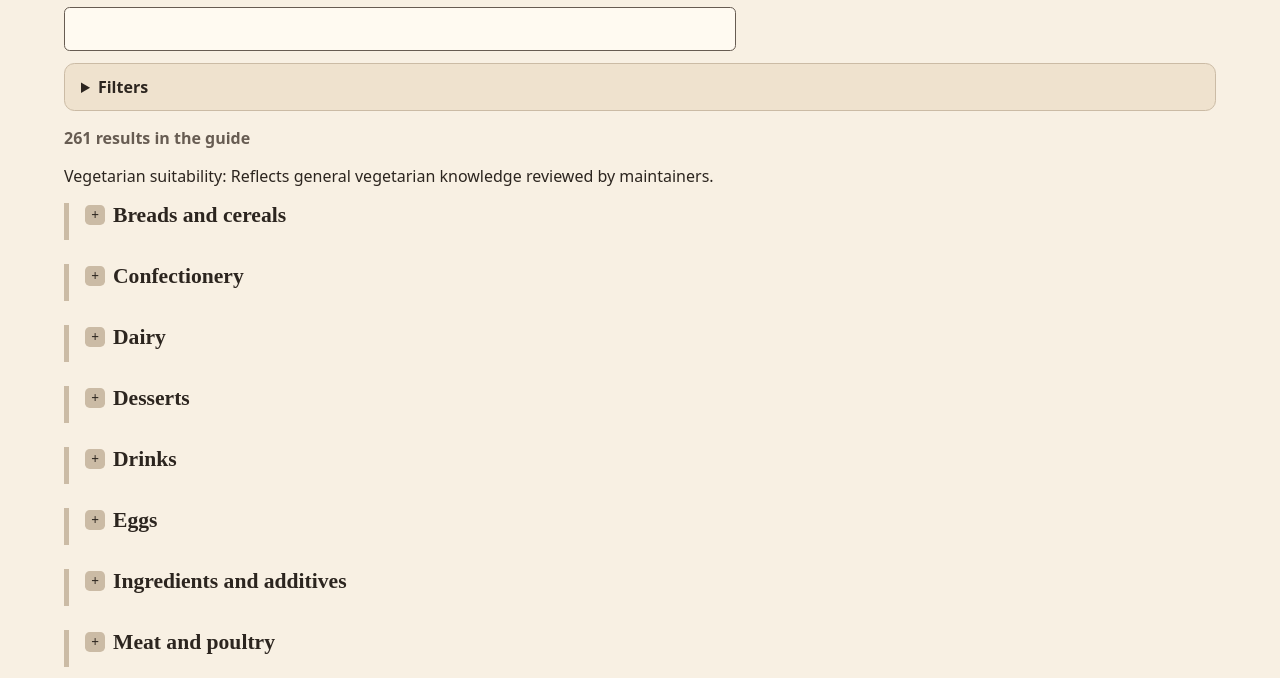
Test case: CataloguePage › defaults to pregnancy and vegetarian scopes and renders their list-specific card guidance
(page scrolled)
Click the button "+ Dairy" at (125, 337), box x1=85 y1=325 x2=166 y2=350
(page scrolled)
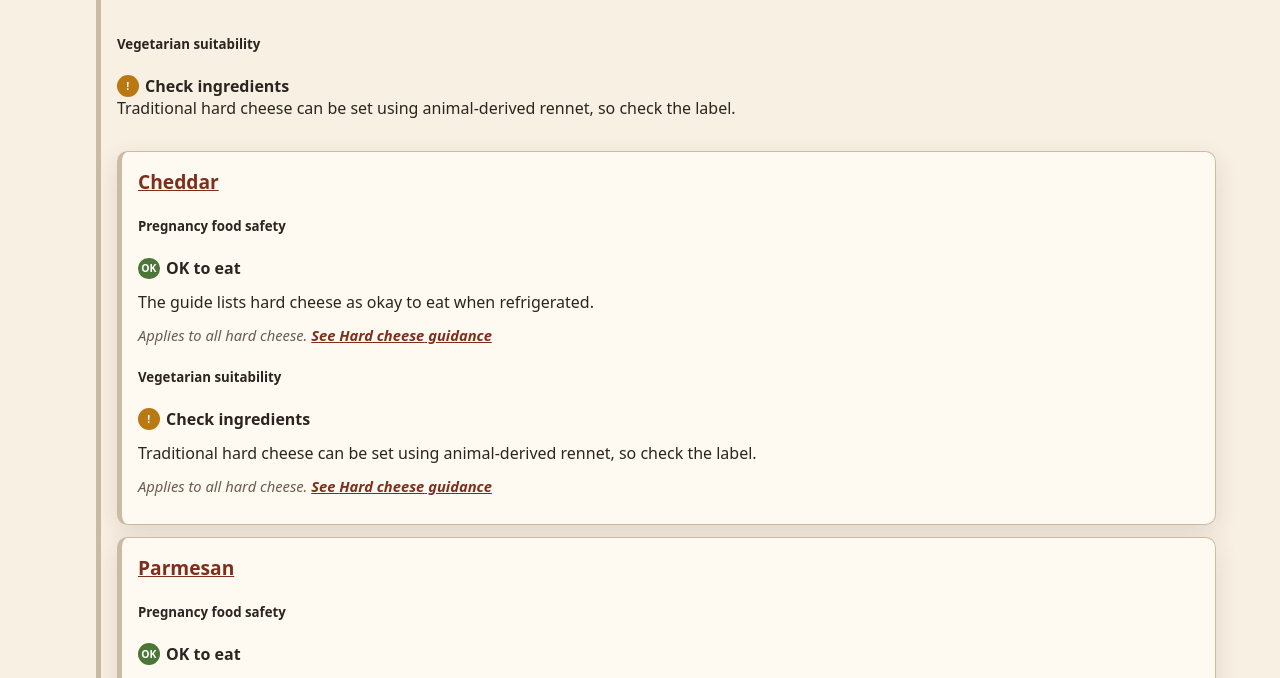
Expected: the list item "Cheddar" shows "Pregnancy food safety", x1=138 y1=217 x2=286 y2=235
Expected: the list item "Cheddar" shows "Vegetarian suitability", x1=138 y1=368 x2=281 y2=386
